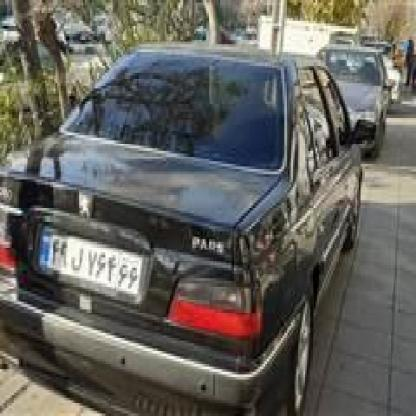Car: (0, 34, 359, 416), (319, 36, 399, 158)
